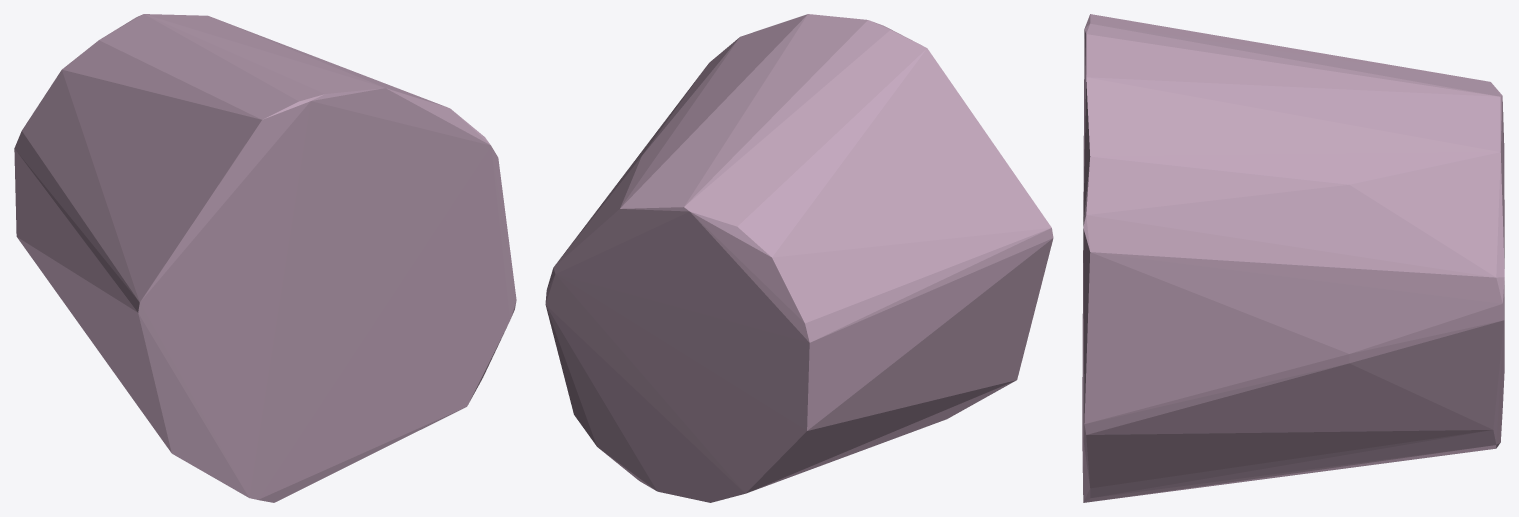
Rendered from cleaning_bucket_iron_a01.glb.
The picture shows the model from 3 angles, left to right: view 1: azimuth 30°, elevation 25°; view 2: azimuth 150°, elevation 25°; view 3: azimuth 270°, elevation 25°; orthographic projection. The views are drawn at different scales.
Visible parts, largest first — view 1: geometry_0; view 2: geometry_0; view 3: geometry_0.
Part boxes in pixels (x1=…): geometry_0: x1=14, y1=14, x2=516, y2=502; geometry_0: x1=545, y1=14, x2=1053, y2=502; geometry_0: x1=1082, y1=14, x2=1504, y2=502.
Bounding box in the file's own units: 0.4661 × 0.4671 × 0.3997.
